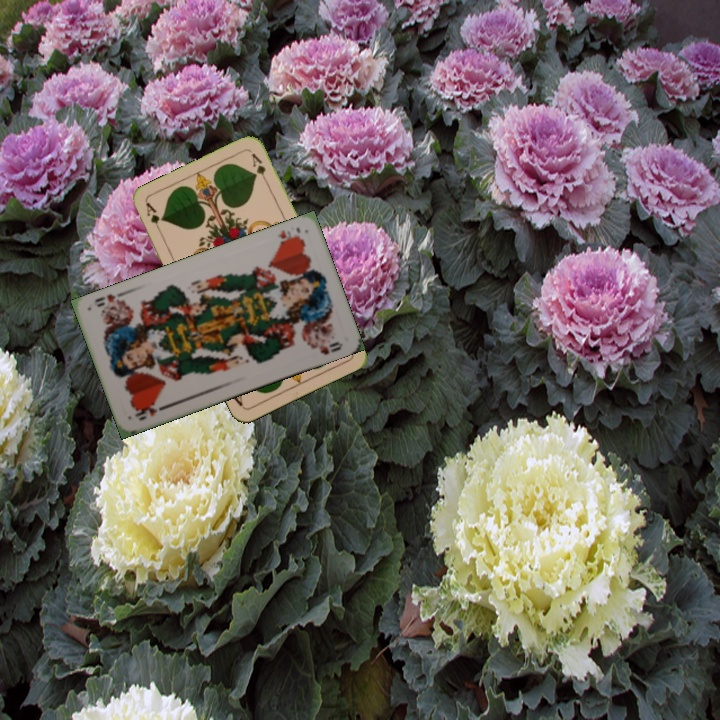GA: (142, 199, 165, 238)
HO: (131, 401, 169, 423), (273, 223, 303, 248)
